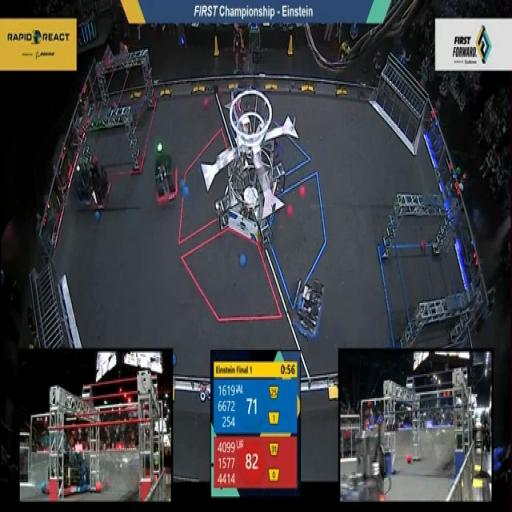robot: (291, 270, 328, 343), (151, 138, 183, 205), (88, 154, 116, 213), (77, 152, 96, 215)
